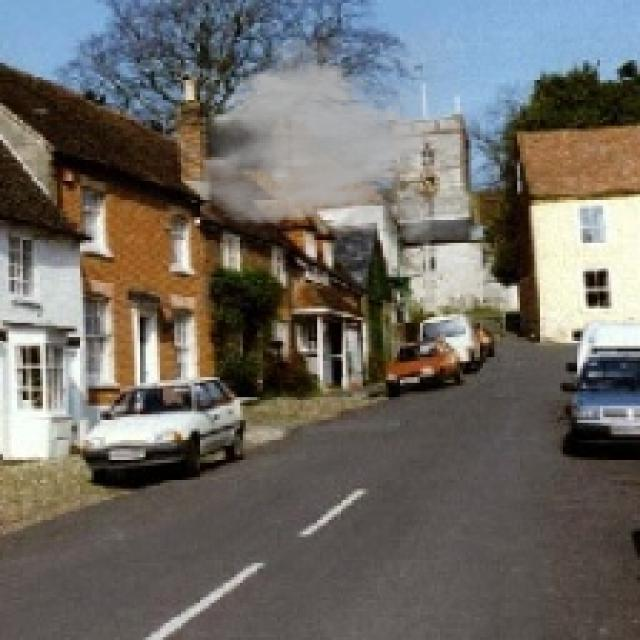smoke: (186, 32, 460, 248)
